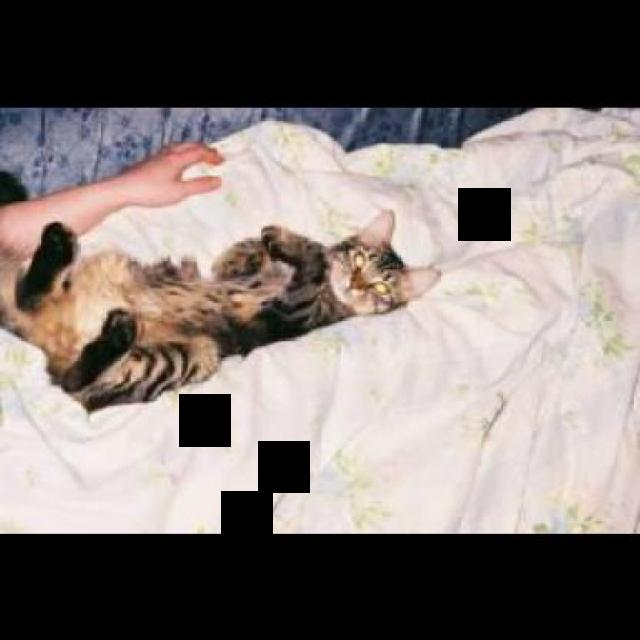unauthorized: (0, 206, 442, 414)
